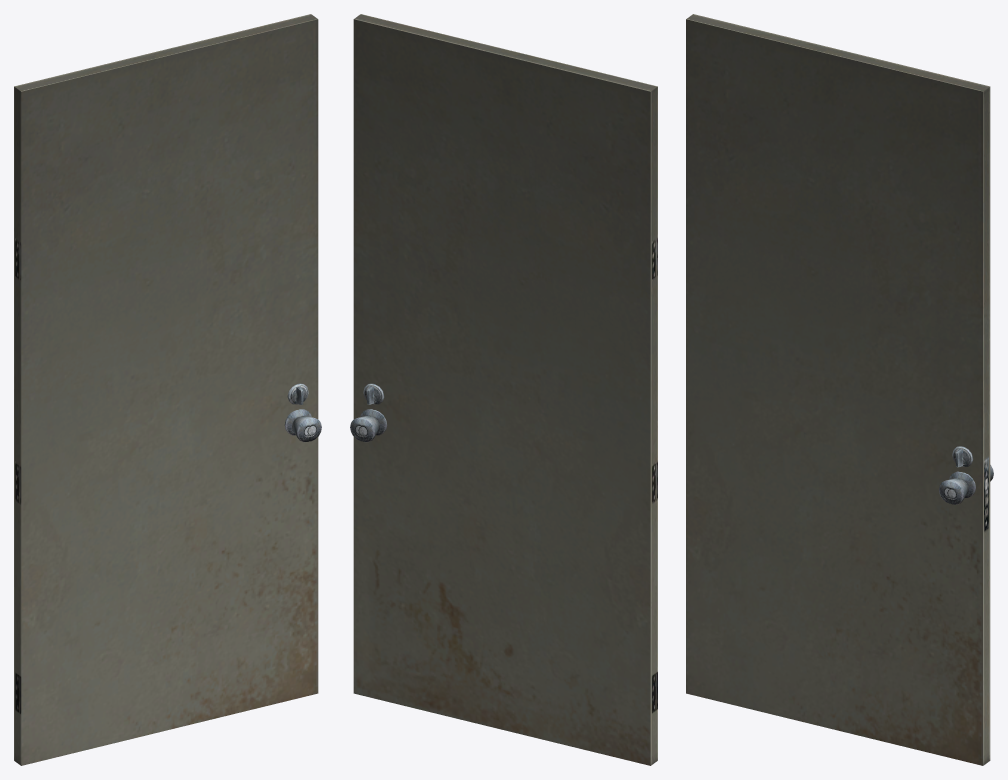
File: doormainmetalsmall01.glb
3 views of the same model, side by side, from view 1: azimuth 30°, elevation 25°; view 2: azimuth 150°, elevation 25°; view 3: azimuth 330°, elevation 25° (orthographic).
Visible parts, largest first — view 1: doormainmetalsmall01; view 2: doormainmetalsmall01; view 3: doormainmetalsmall01.
Boxes of the visible parts, x1,y1,x2,y2 form: doormainmetalsmall01: [14, 14, 321, 765]; doormainmetalsmall01: [350, 14, 657, 765]; doormainmetalsmall01: [686, 14, 993, 765].
Bounding box in the file's own units: 0.9133 × 1.98 × 0.172.
Materials: 3 (3 with a texture image).
